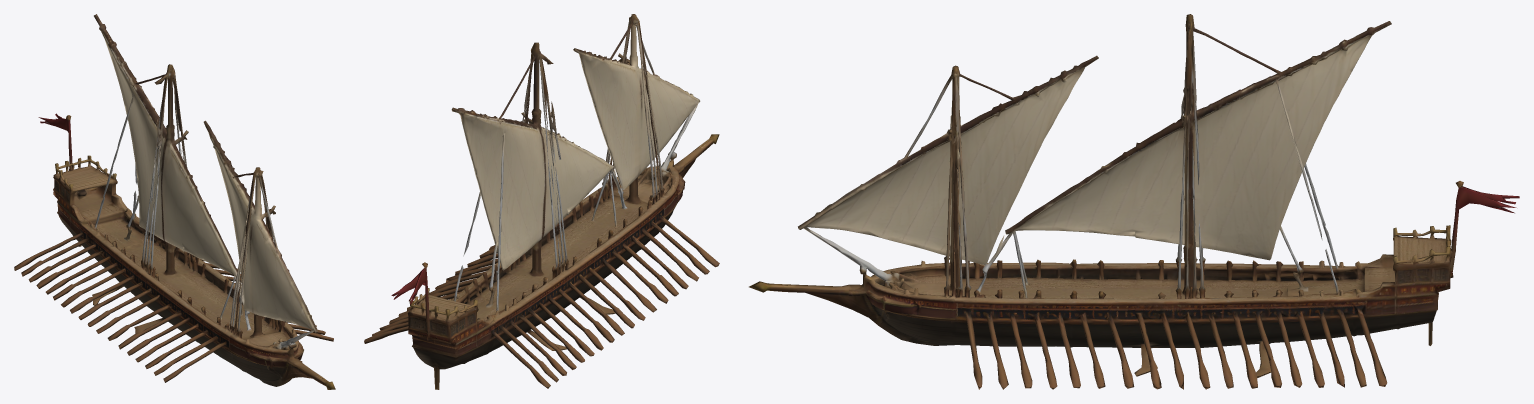
Rendered from lepanto-galley.glb.
3 renders of one model, left to right at view 1: azimuth 30°, elevation 25°; view 2: azimuth 150°, elevation 25°; view 3: azimuth 270°, elevation 25°, orthographic. The views are drawn at different scales.
Visible parts, largest first — view 1: tripo_node_65bf0499-b2c3-4913-beb5-60f9fb3732e3; view 2: tripo_node_65bf0499-b2c3-4913-beb5-60f9fb3732e3; view 3: tripo_node_65bf0499-b2c3-4913-beb5-60f9fb3732e3.
Boxes of the visible parts, x1,y1,x2,y2 form: tripo_node_65bf0499-b2c3-4913-beb5-60f9fb3732e3: (14,14,335,389); tripo_node_65bf0499-b2c3-4913-beb5-60f9fb3732e3: (364,14,719,389); tripo_node_65bf0499-b2c3-4913-beb5-60f9fb3732e3: (749,14,1519,389).
Bounding box in the file's own units: 0.3425 × 0.4724 × 1.
1 material, 1 textured.
